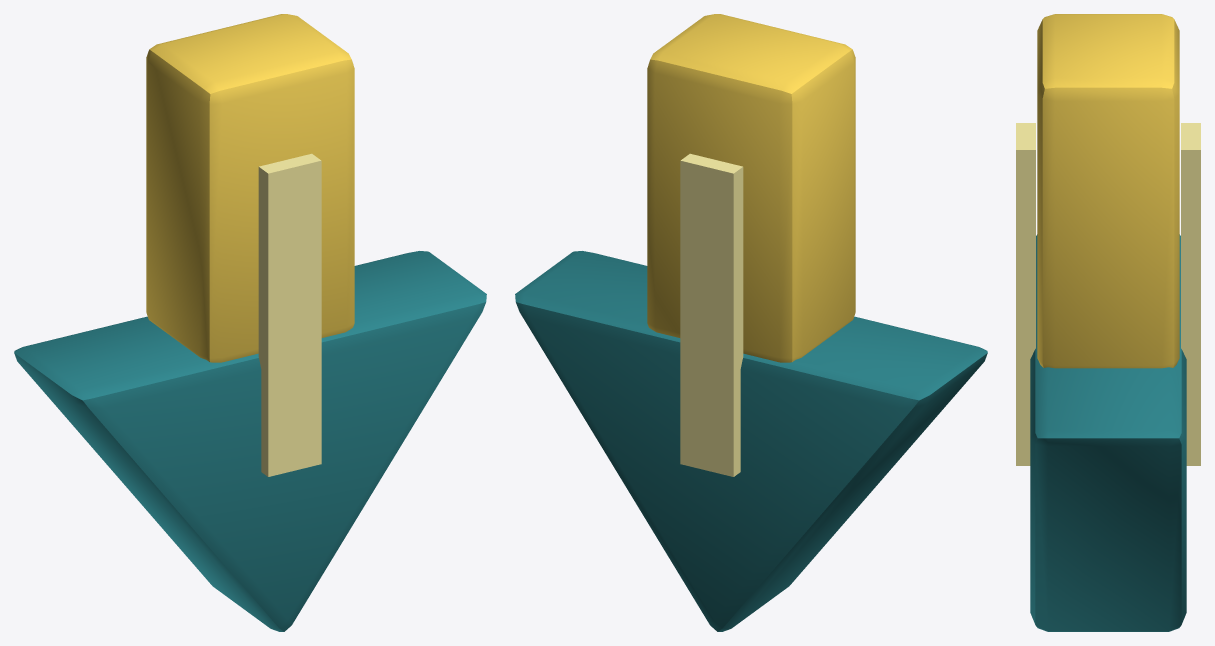
File: prism_goal_arrow.obj
The picture shows the model from 3 angles, left to right: view 1: azimuth 30°, elevation 25°; view 2: azimuth 150°, elevation 25°; view 3: azimuth 270°, elevation 25°; orthographic projection. The views are drawn at different scales.
Parts seen in each view (by area): view 1: PrismGoalArrow; view 2: PrismGoalArrow; view 3: PrismGoalArrow.
Boxes of the visible parts, x1,y1,x2,y2 form: PrismGoalArrow: (14,14,486,631); PrismGoalArrow: (515,14,987,631); PrismGoalArrow: (1016,14,1200,631).
Size of the model in its own units: 0.7007 by 0.9086 by 0.26.
Materials: 1 (1 with a texture image).
